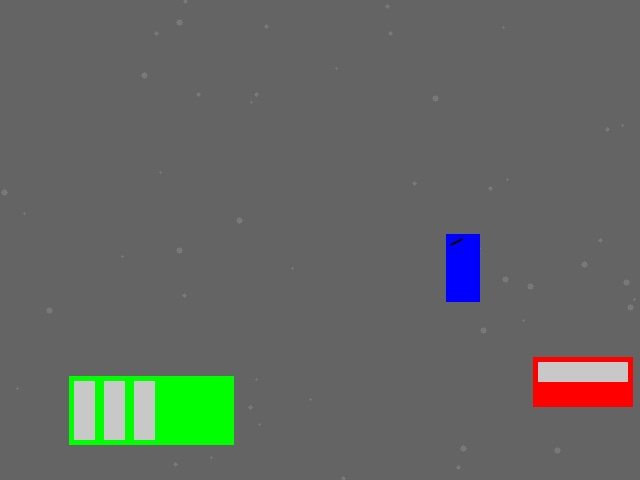bus: (69, 376, 233, 444)
car: (533, 357, 632, 406)
motorcycle: (446, 234, 479, 301)
